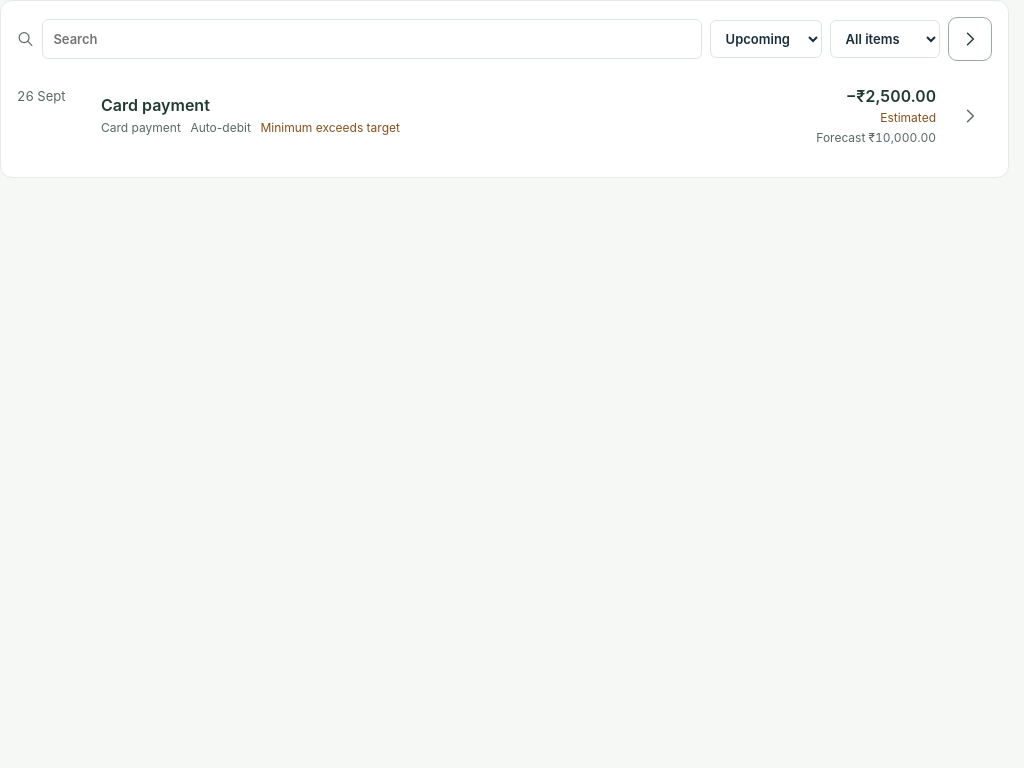
keeps requiredFloor visible without replacing the reported target or hiding its full qualification
Expected: the heading "Card payment" is shown, [101, 95, 210, 115]
Expected: the text "Auto-debit" is shown, [190, 120, 251, 138]
Click the button named "Details for Card payment on 26 Sept 2026". click: (970, 116)
box: [948, 94, 992, 138]
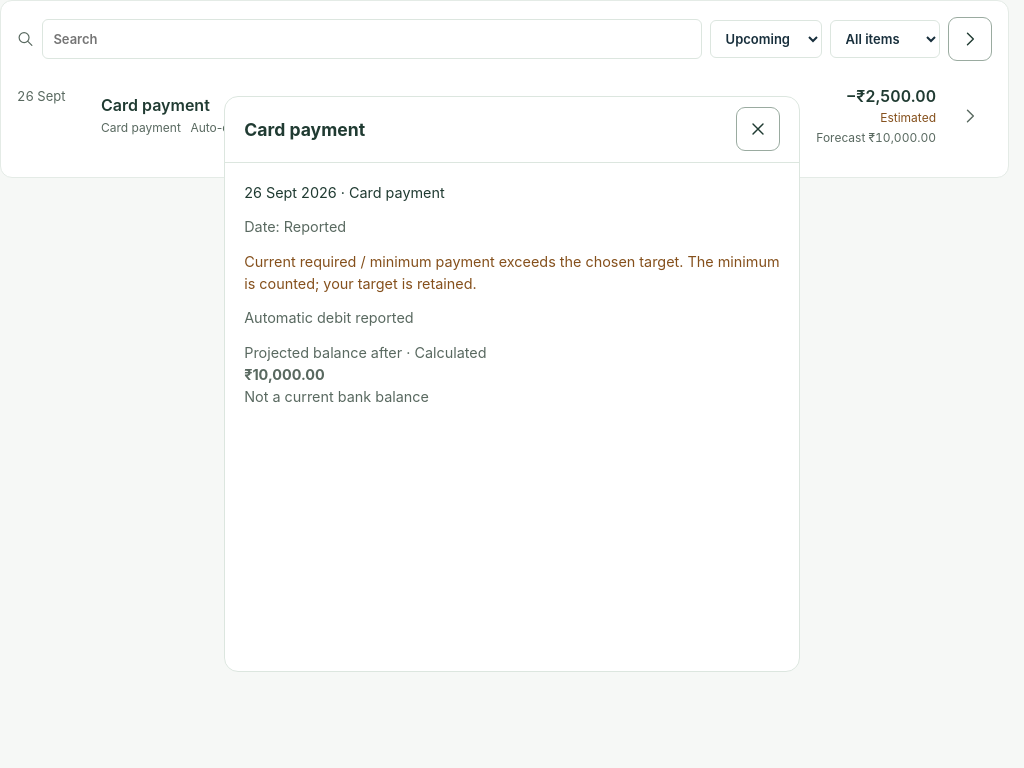
Result: the text "Current required / minimum payment exceeds the chosen target. The minimum is counted; your target is retained." is shown at [244, 253, 780, 292]
